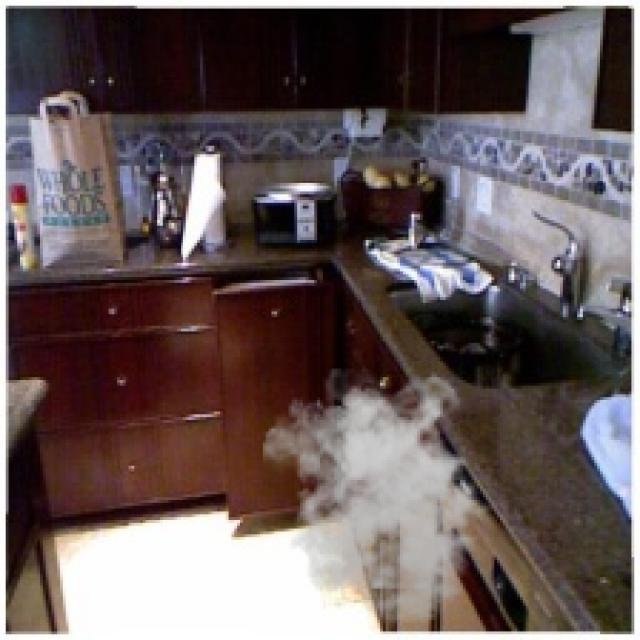smoke: (263, 368, 503, 626)
